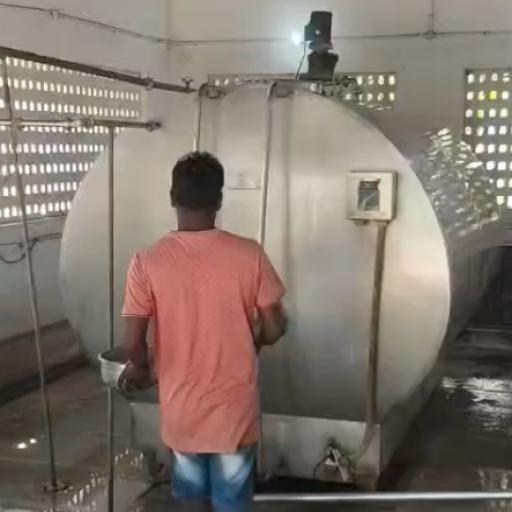silo: (54, 77, 503, 482)
vessel: (98, 345, 156, 392)
